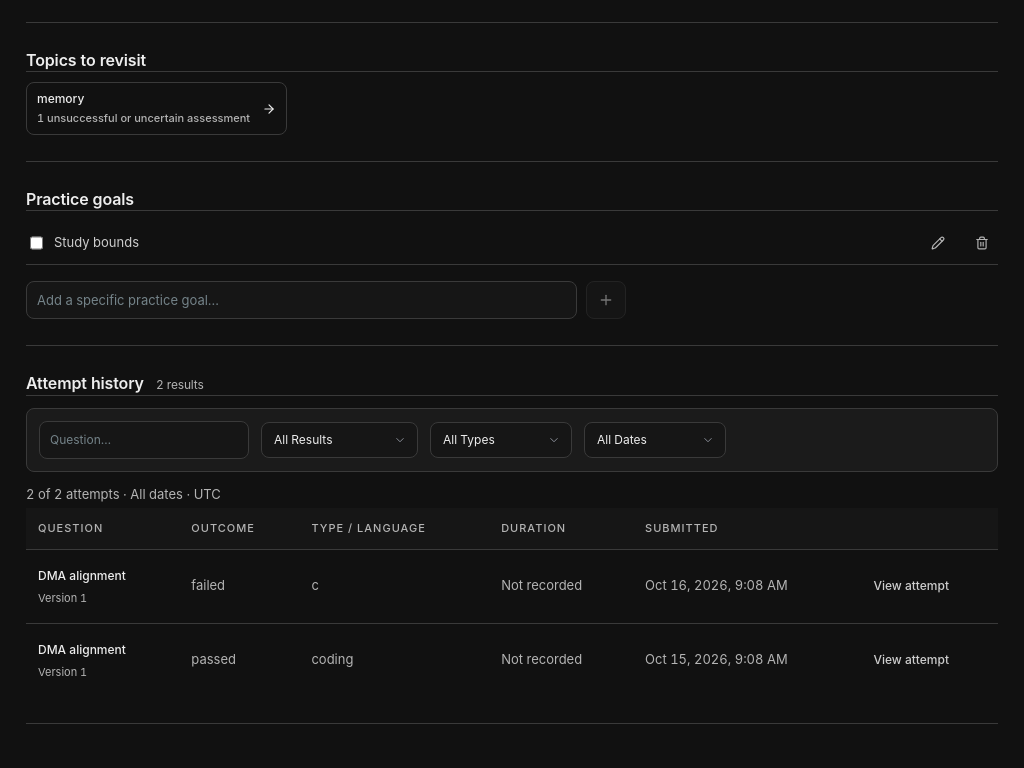
Test: handles detail loading errors without discarding saved history
(page scrolled)
Click the 1st button "View attempt" at (911, 586), box [873,572,949,600]
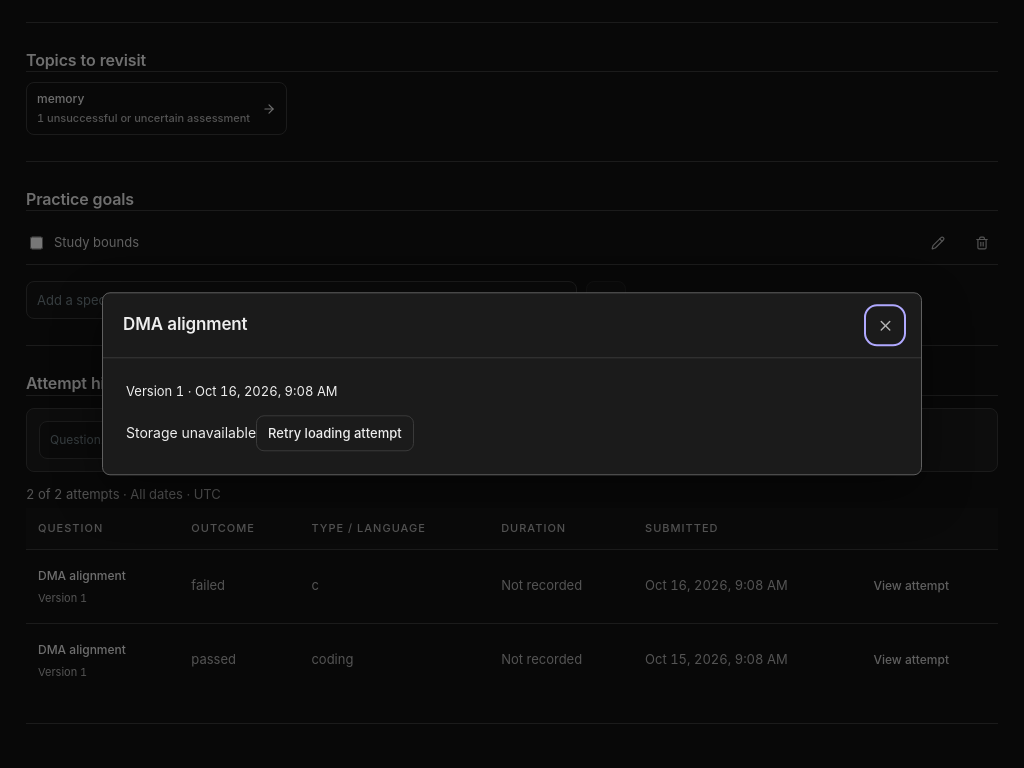
Expected: the heading "Attempt history 2 results" is shown, [26,372,204,395]
Expected: the message shows "Storage unavailable", [126,424,256,441]
